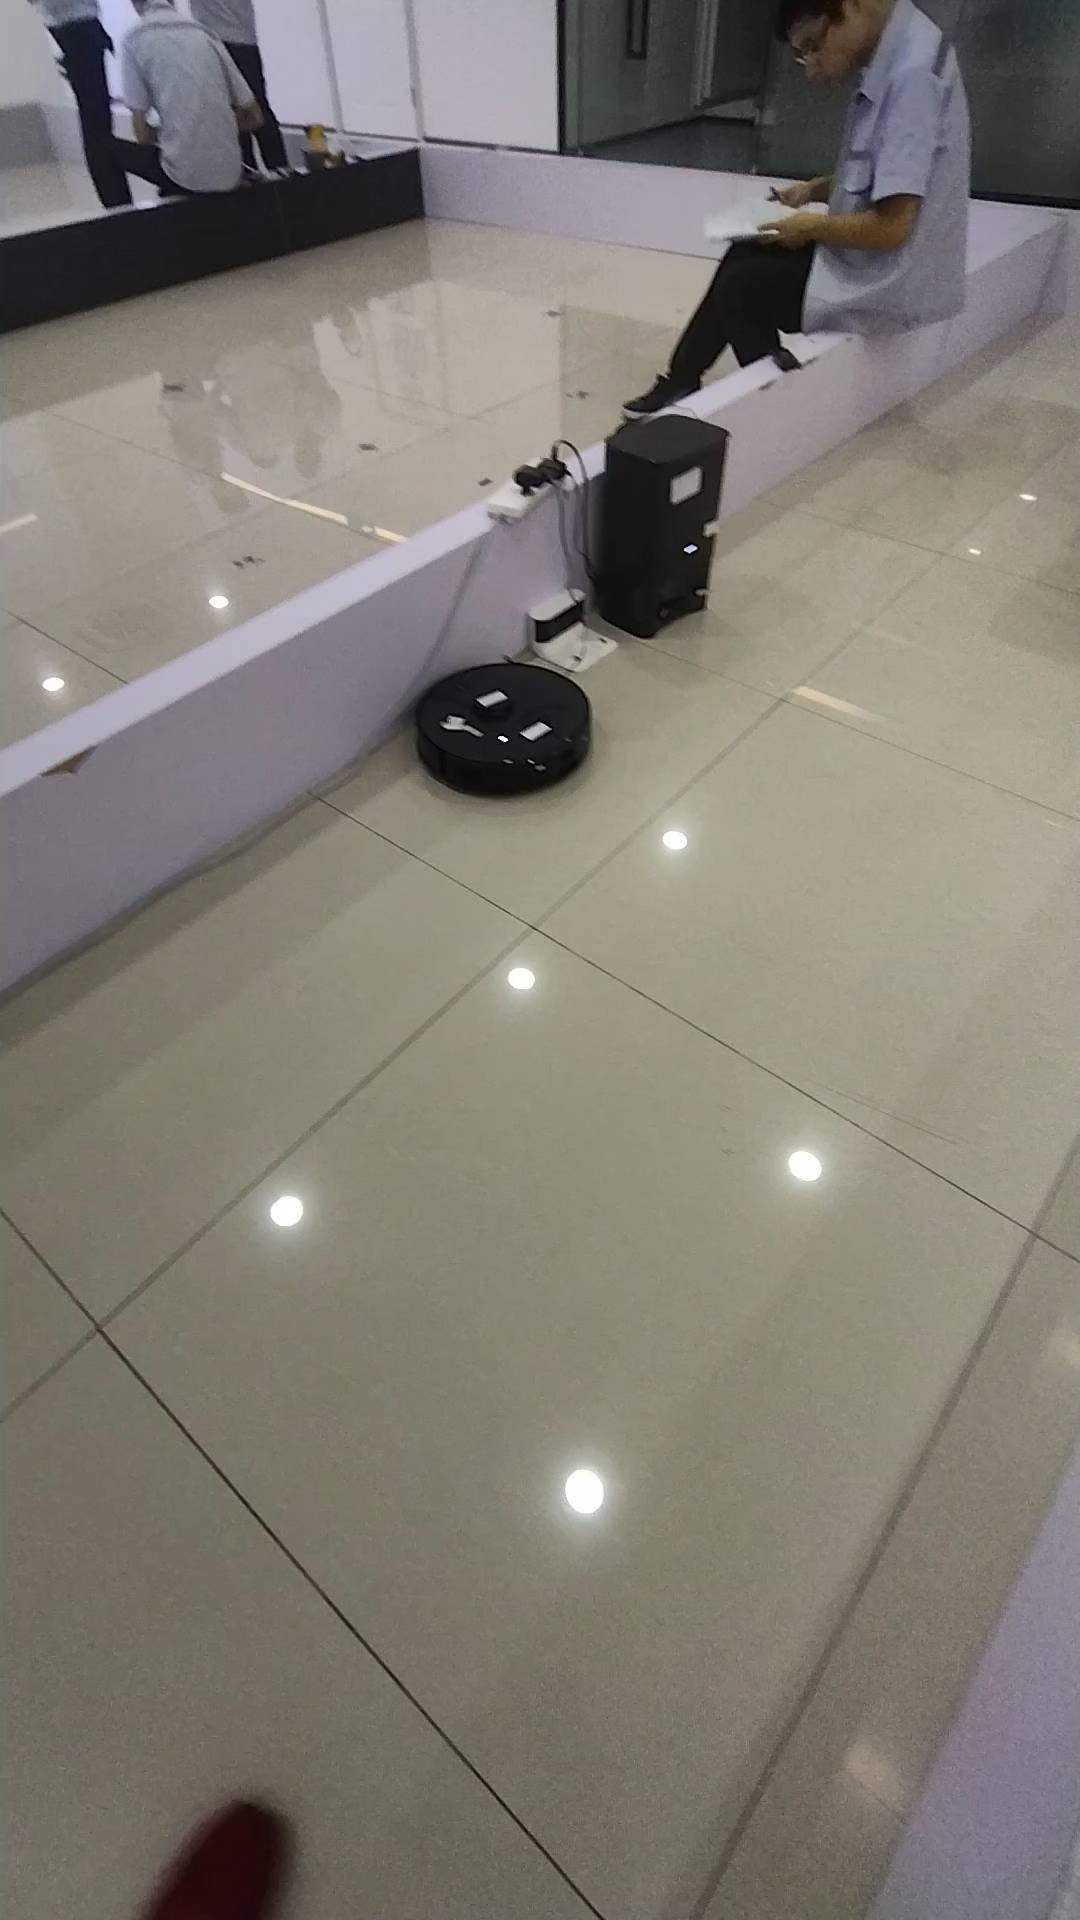dust collecting barrel: (596, 411, 733, 644)
recharge seat: (524, 589, 618, 678)
